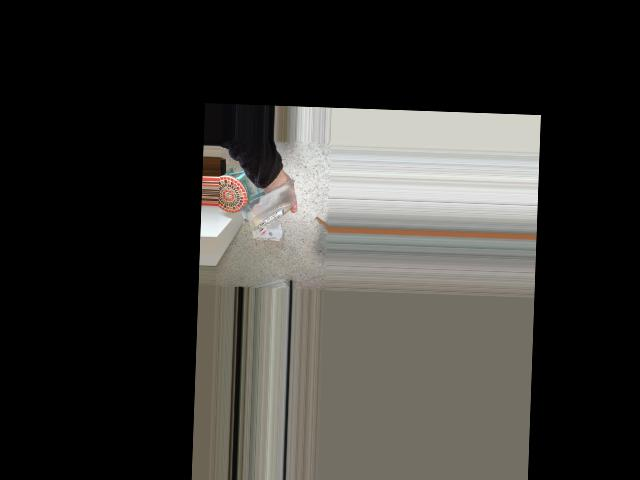cheese: (223, 172, 302, 247)
